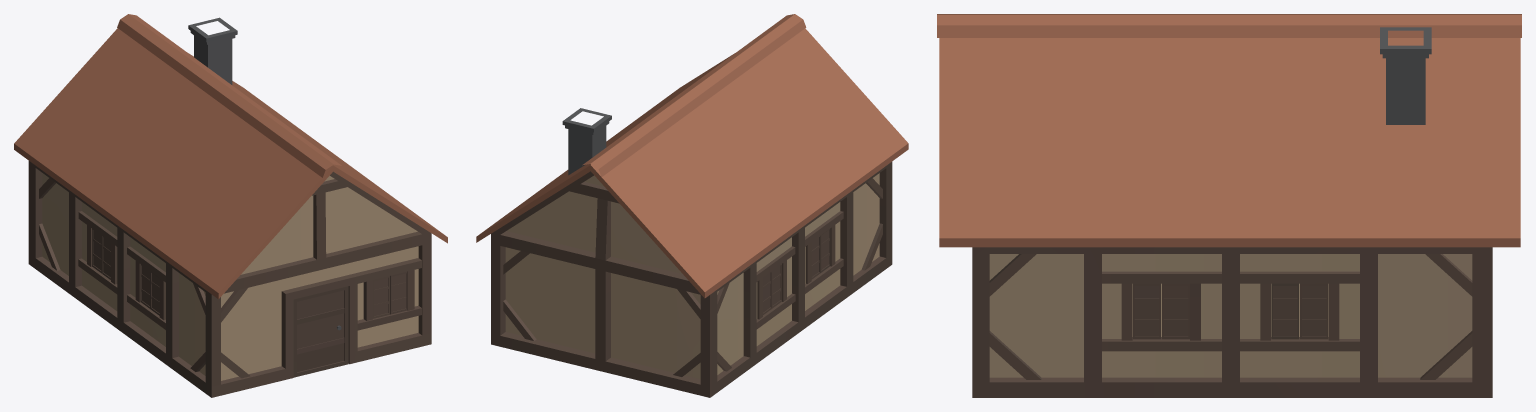
Rendered from cottage_lev2.glb.
The picture shows the model from 3 angles, left to right: view 1: azimuth 30°, elevation 25°; view 2: azimuth 150°, elevation 25°; view 3: azimuth 270°, elevation 25°; orthographic projection. The views are drawn at different scales.
Parts seen in each view (by area): view 1: cottage_lev2; view 2: cottage_lev2; view 3: cottage_lev2.
Part boxes in pixels (bbox=[...]): cottage_lev2: bbox=[14, 14, 447, 397]; cottage_lev2: bbox=[476, 14, 908, 397]; cottage_lev2: bbox=[937, 14, 1521, 397].
Bounding box in the file's own units: 10.66 × 9.82 × 16.56.
1 material, 1 textured.
